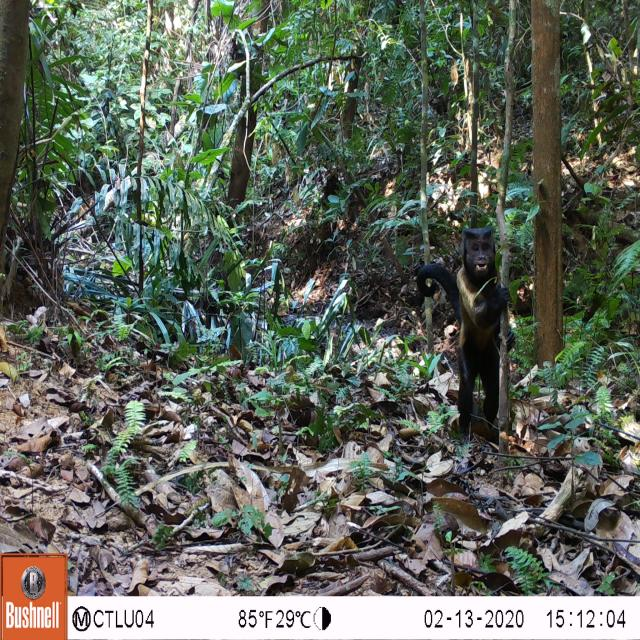Margarita Island Capuchin: (400, 212, 514, 436)
